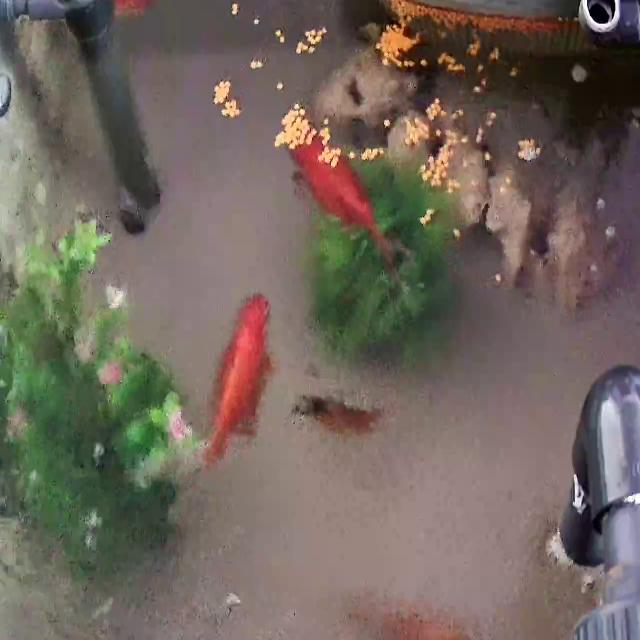fish: (199, 292, 272, 470), (304, 111, 386, 232), (294, 386, 391, 434), (358, 598, 456, 640), (111, 0, 156, 17)
